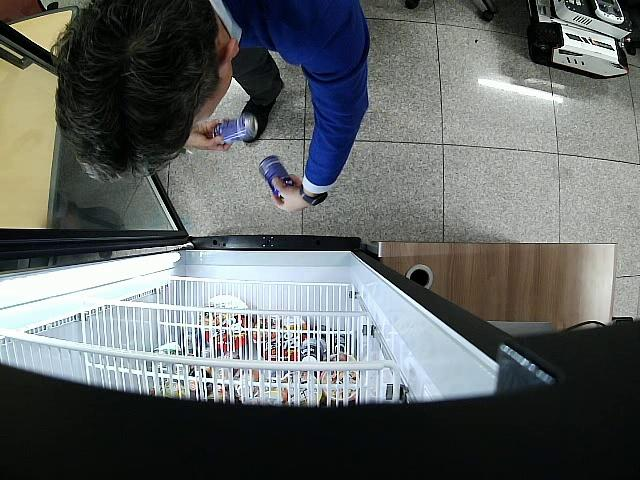00_hand: (185, 118, 231, 150), (270, 174, 302, 213)
14_welchsGrape: (260, 154, 294, 199), (211, 114, 259, 145)
